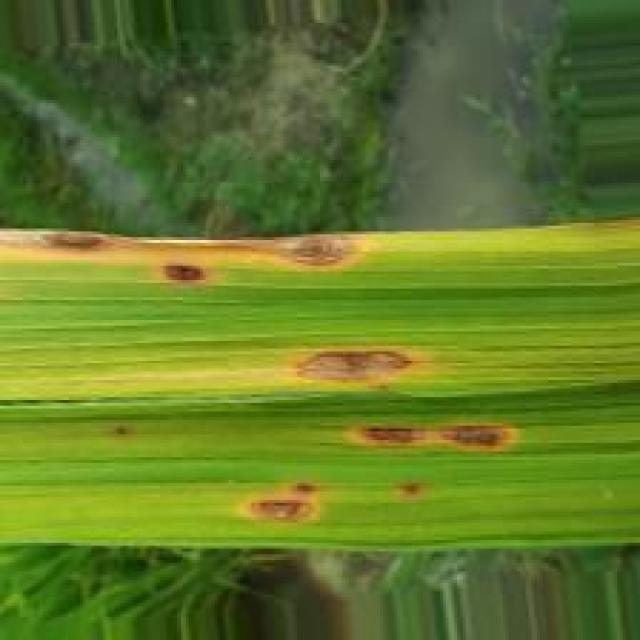Brown_Spot: (288, 343, 418, 393), (359, 423, 522, 450), (244, 495, 314, 524), (163, 262, 209, 284)
